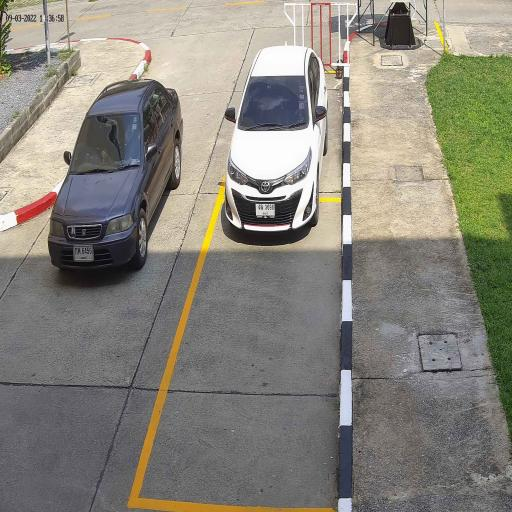car: (47, 78, 184, 273), (224, 45, 328, 234)
